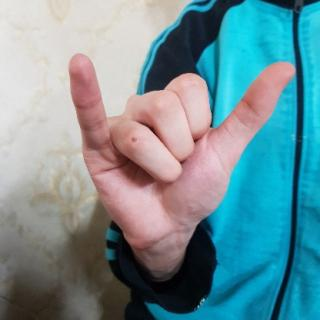YA: (66, 48, 301, 256)
